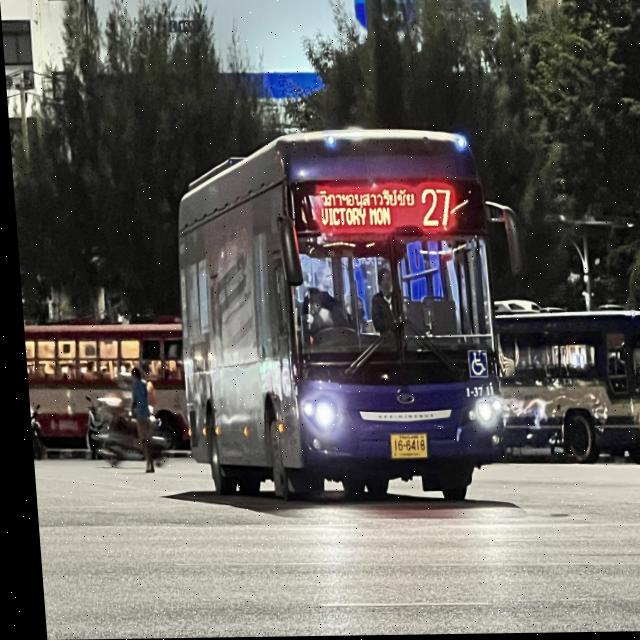BMTA-bus: (489, 302, 640, 468), (19, 319, 184, 467)
Bus-Line-Number: (411, 181, 456, 235)
Destination-Sign-Normal: (313, 182, 413, 233)
TSB-Bus: (161, 127, 506, 506)
